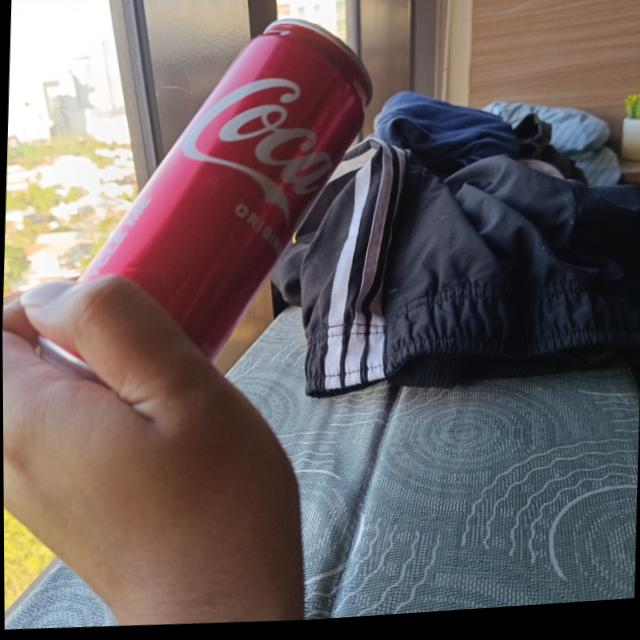coke: (36, 11, 373, 399)
